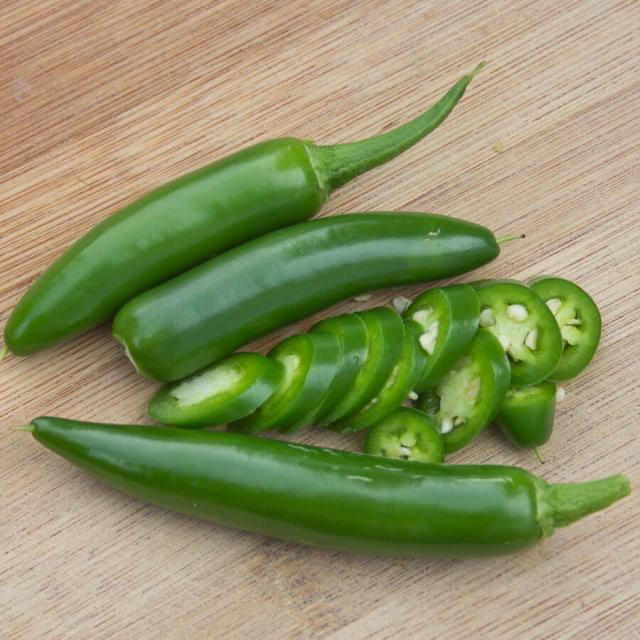chilli: (85, 440, 640, 564)
